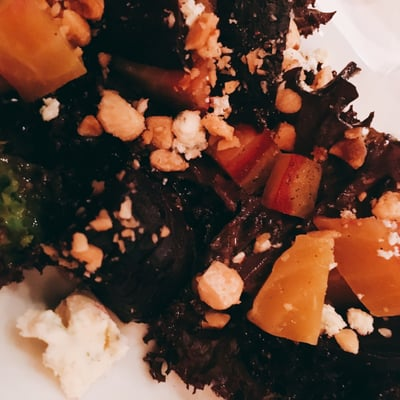sushi: (1, 0, 399, 398)
